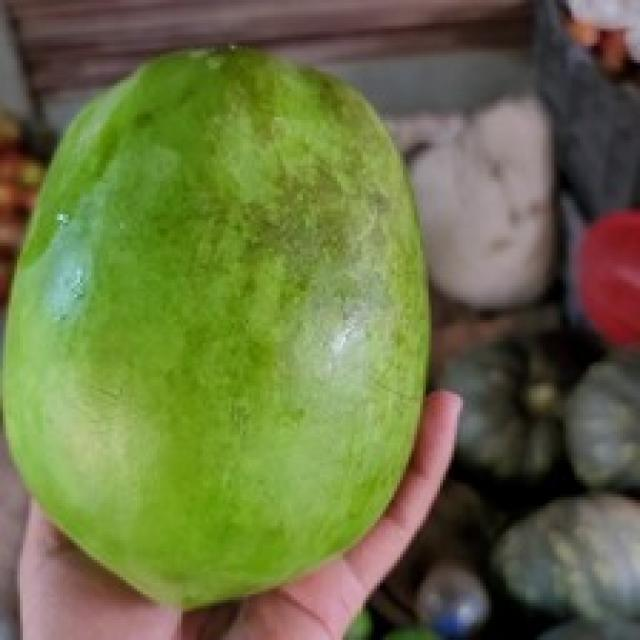Pepaya unrippen: (1, 41, 446, 621)
